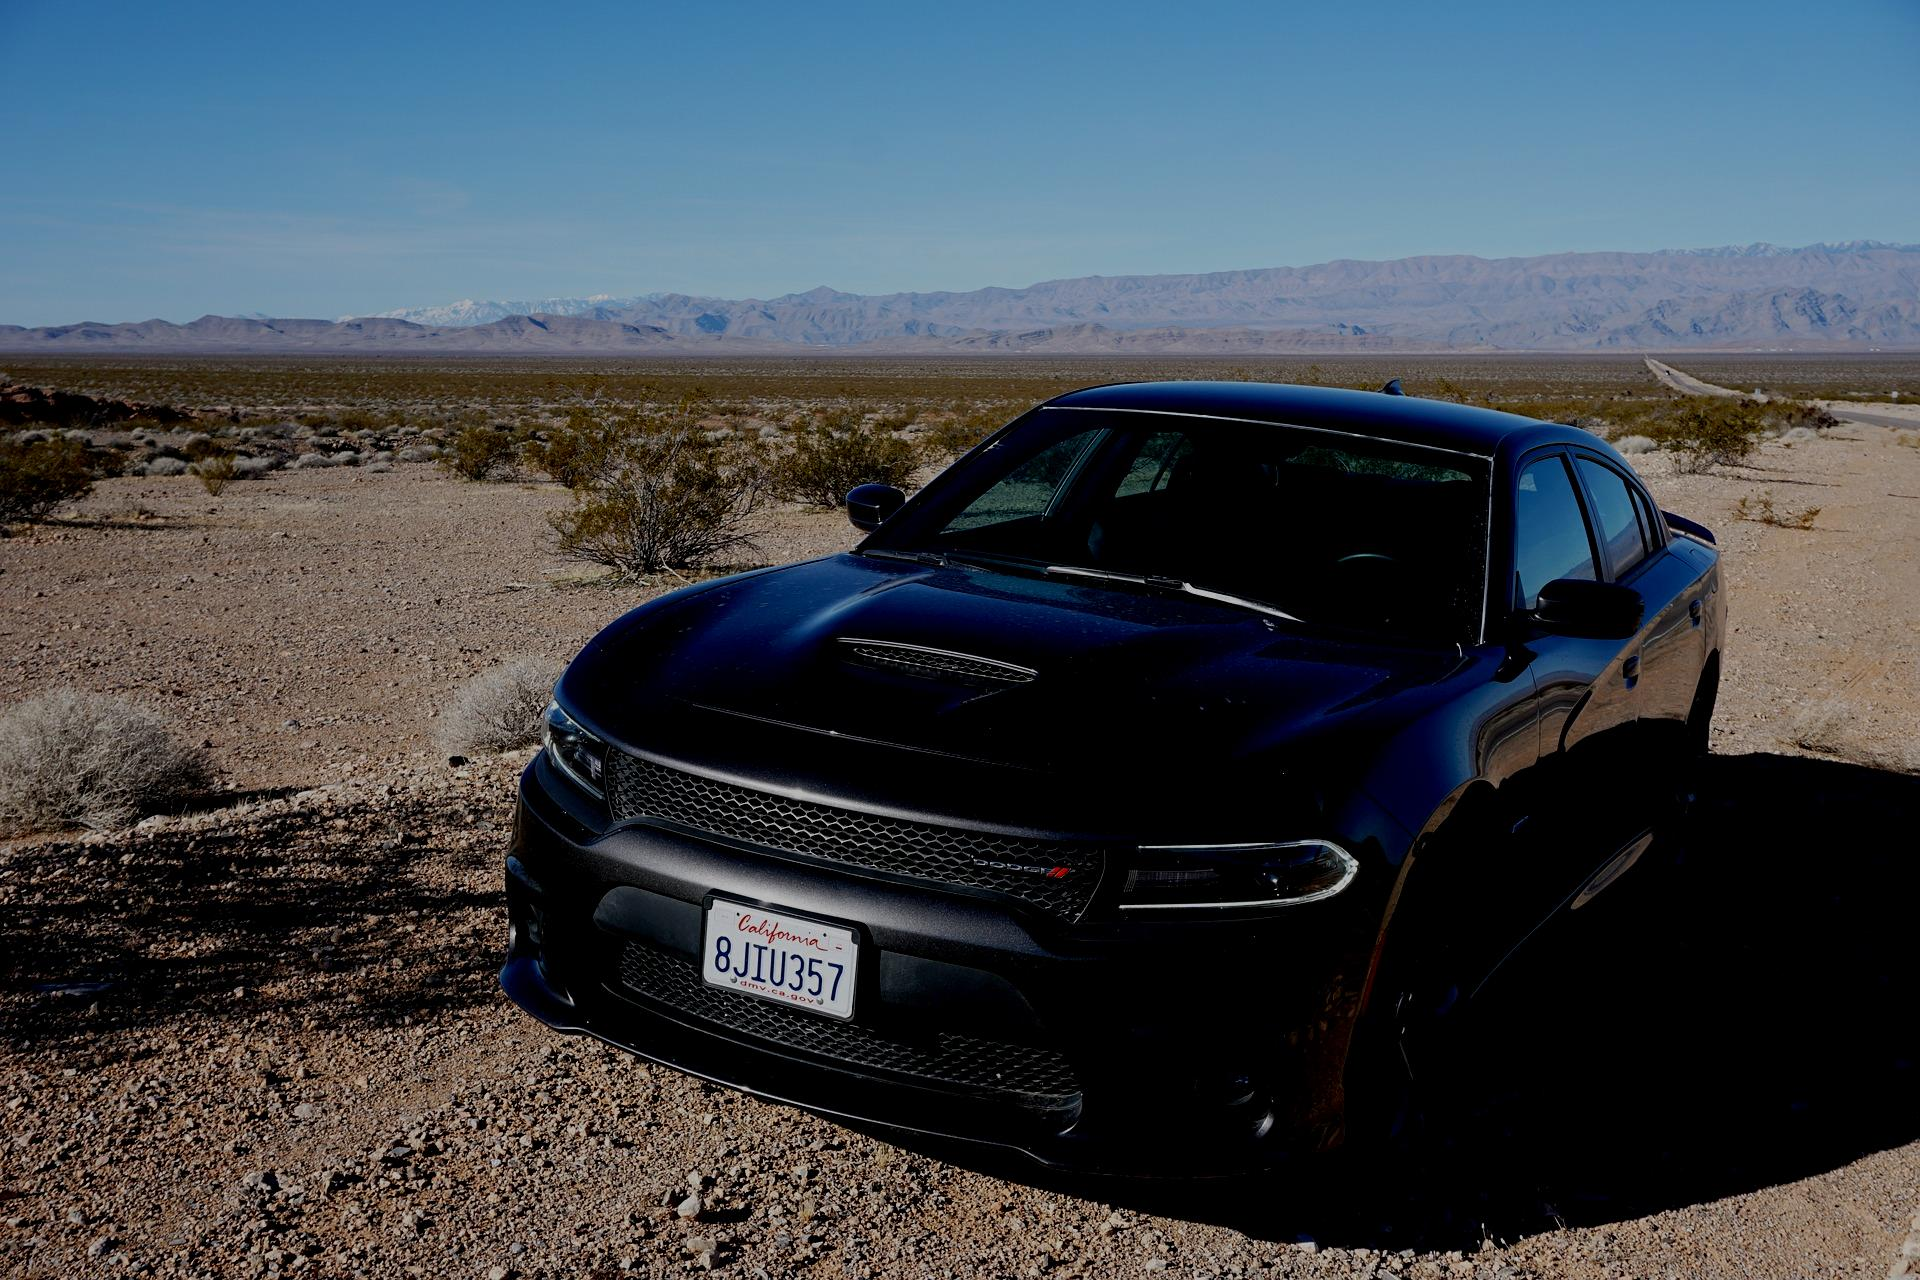dodge: (953, 847, 1087, 891)
